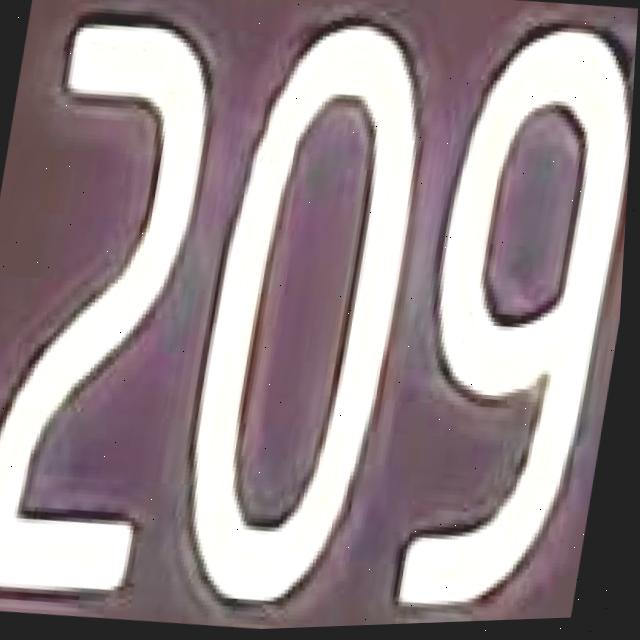character: (159, 7, 445, 628), (374, 4, 638, 625), (0, 0, 231, 610)
